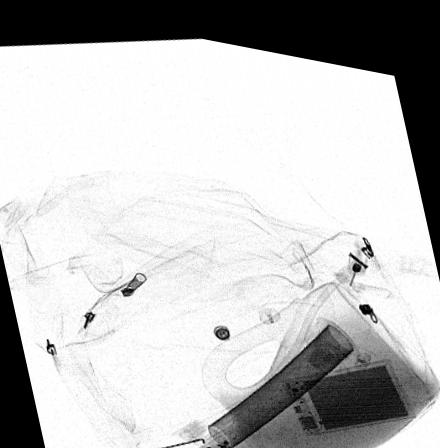Powerbank: (283, 339, 414, 424)
